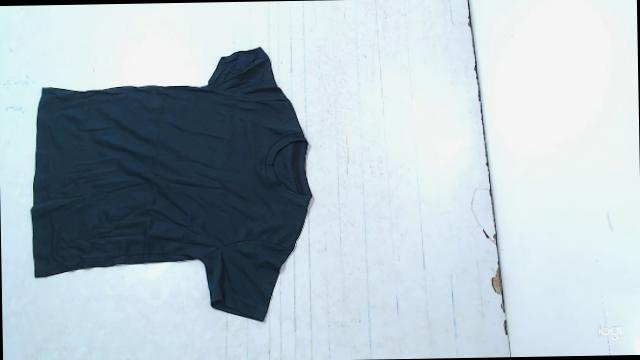new-garment: (31, 47, 312, 320)
